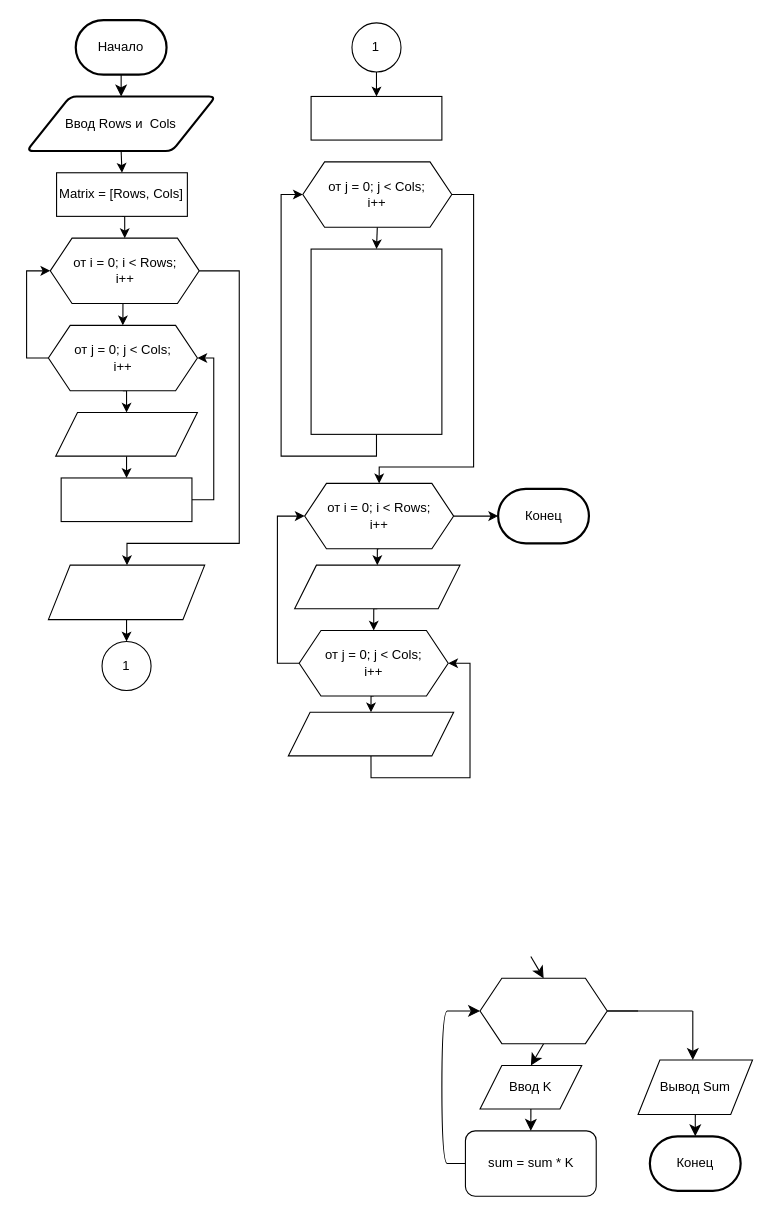
Some shapes in this 772 by 1215 pixel diagram are drawn without their labels. Each missing label, with the centre of its shape:
"Matrix[i, j] = Number" belongs at point 126,499.
"Row1 -- Row2 --" belongs at point 376,117.
"Temp = Maxtrix[Row1, j] Matrix[Row1, j] = Matrix[Row2, j] Matrix[Row2, j] = Temp" belongs at point 376,341.
"Ввод Number" belongs at point 126,433.
"Ввод Row1, Row2" belongs at point 126,592.
"Вывод Matrix[i, j]" belongs at point 370,733.
"Вывод пустой строки" belongs at point 377,586.
"от i = 0; i < N; i++" belongs at point 543,1010.
